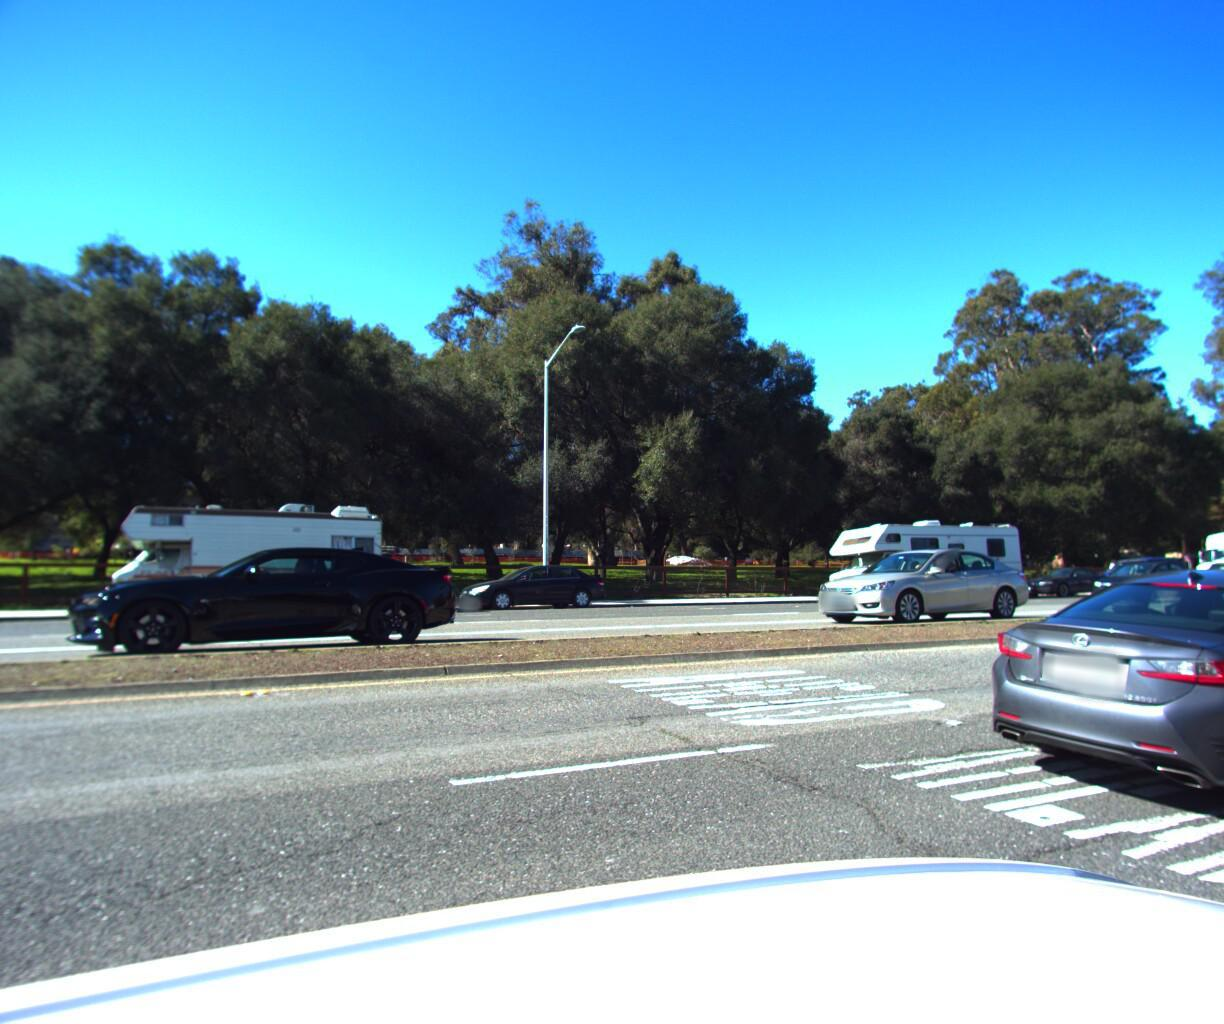bus: (1169, 519, 1224, 589)
car: (948, 566, 1224, 862), (78, 530, 480, 654), (792, 526, 1043, 620), (449, 558, 615, 610), (1082, 549, 1211, 595), (1176, 545, 1224, 661), (1076, 547, 1197, 592), (1007, 560, 1118, 594)
other_vehicle: (102, 485, 404, 619), (805, 506, 1029, 601)
